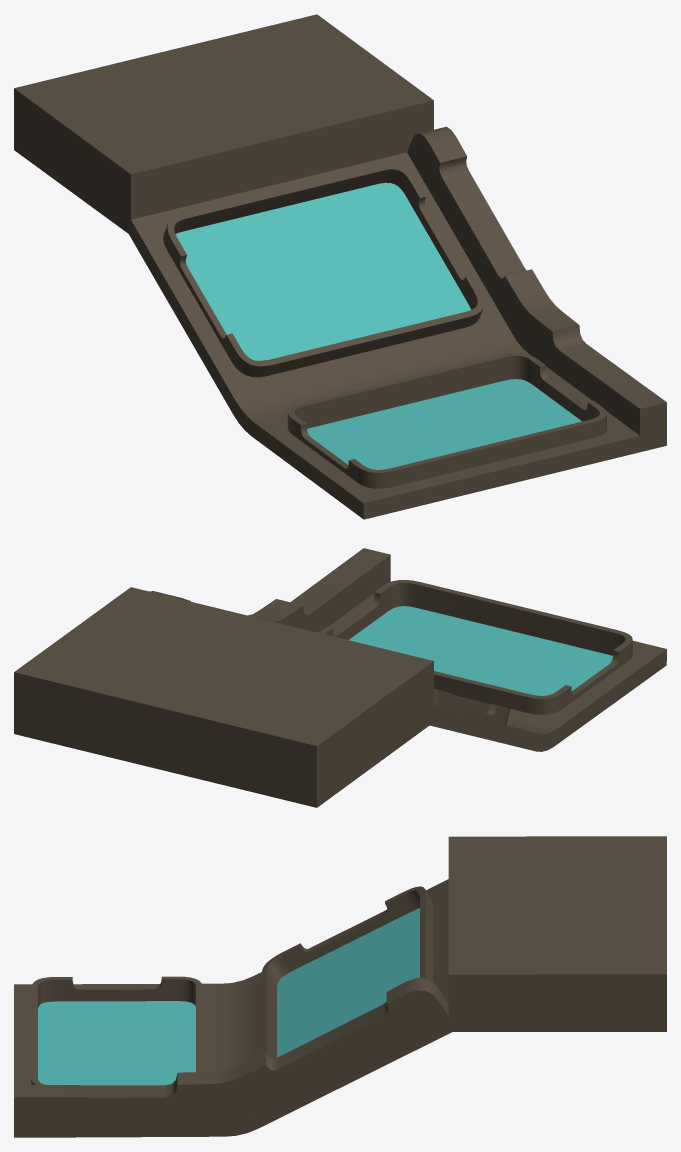
Rendered from UnderFloor_B_Mid.FBX.
3 views of the same model, one above another, from view 1: azimuth 30°, elevation 25°; view 2: azimuth 150°, elevation 25°; view 3: azimuth 270°, elevation 25° (orthographic). The views are drawn at different scales.
Parts seen in each view (by area): view 1: UnderFloor_B_Mid, UnderFloor_B_Mid_Glass; view 2: UnderFloor_B_Mid, UnderFloor_B_Mid_Glass; view 3: UnderFloor_B_Mid, UnderFloor_B_Mid_Glass.
Part boxes in pixels (bbox=[...]): UnderFloor_B_Mid: bbox=[14, 14, 666, 519]; UnderFloor_B_Mid_Glass: bbox=[175, 182, 581, 469]; UnderFloor_B_Mid: bbox=[14, 548, 666, 807]; UnderFloor_B_Mid_Glass: bbox=[348, 606, 612, 695]; UnderFloor_B_Mid: bbox=[14, 836, 666, 1137]; UnderFloor_B_Mid_Glass: bbox=[38, 908, 419, 1085].
Bounding box in the file's own units: 200 × 111 × 400.
